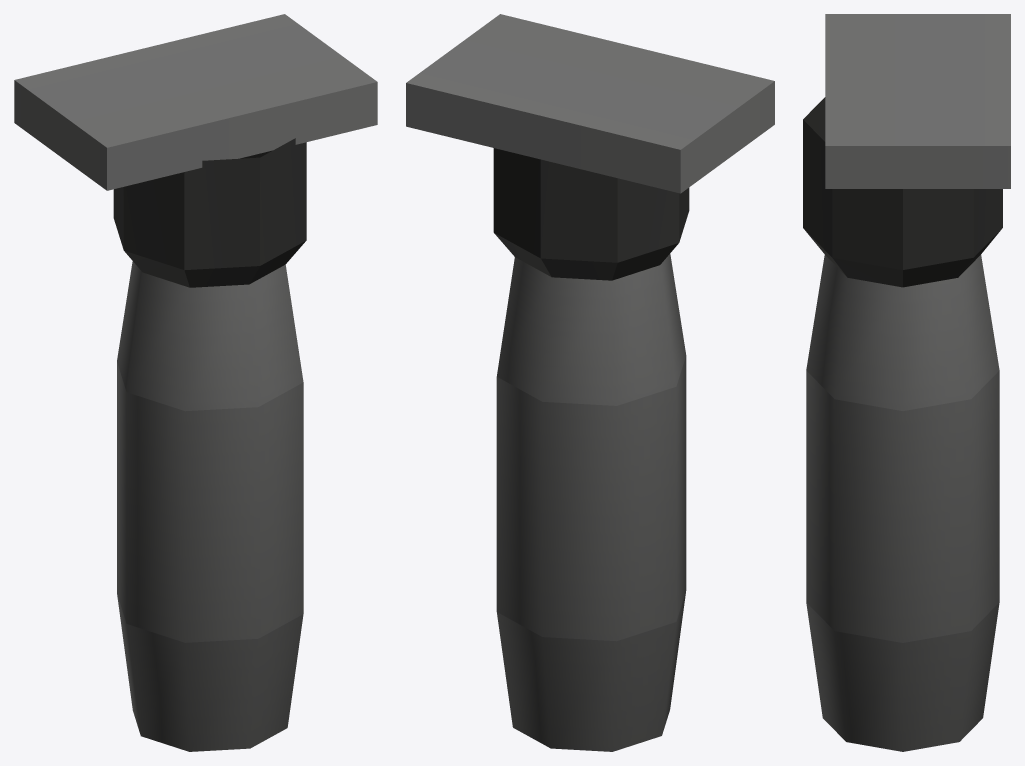
File: Foregrip_mesh.fbx
The picture shows the model from 3 angles, left to right: view 1: azimuth 30°, elevation 25°; view 2: azimuth 150°, elevation 25°; view 3: azimuth 270°, elevation 25°; orthographic projection.
Parts seen in each view (by area): view 1: Foregrip_mesh; view 2: Foregrip_mesh; view 3: Foregrip_mesh.
Boxes of the visible parts, <box> form: Foregrip_mesh: <box>14,14,377,751</box>; Foregrip_mesh: <box>406,14,774,751</box>; Foregrip_mesh: <box>803,14,1010,751</box>.
Bounding box in the file's own units: 5.46 × 12.25 × 3.64.
1 material, 1 textured.
